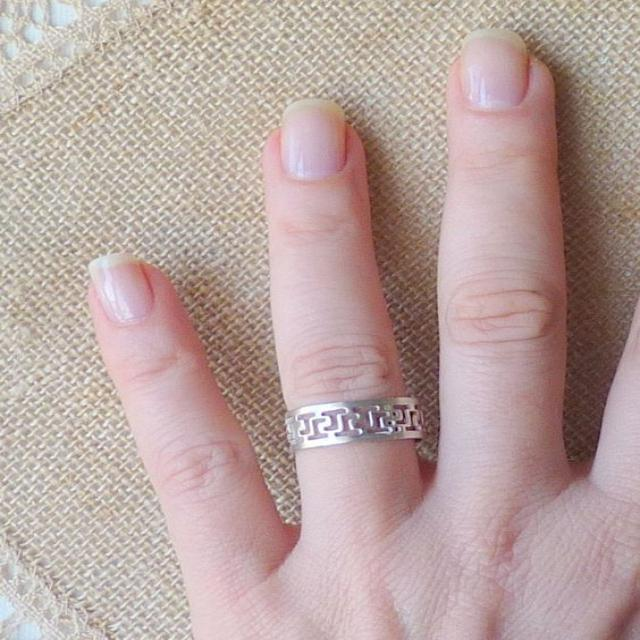Fingernail: (461, 30, 528, 110), (281, 99, 346, 181), (91, 254, 152, 324)
